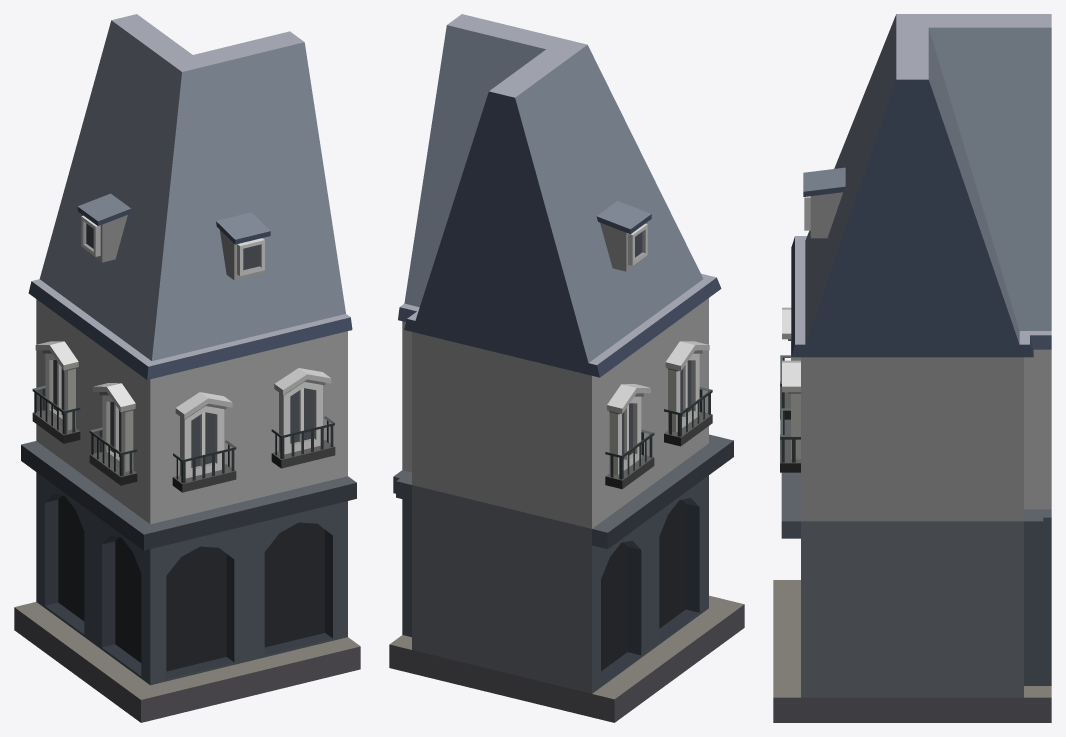
File: TB_CITY_BD_T_Corner_2_A.FBX
3 renders of one model, left to right at view 1: azimuth 30°, elevation 25°; view 2: azimuth 150°, elevation 25°; view 3: azimuth 270°, elevation 25°, orthographic. The views are drawn at different scales.
Visible parts, largest first — view 1: TB_CITY_BD_T_Corner_2_A; view 2: TB_CITY_BD_T_Corner_2_A; view 3: TB_CITY_BD_T_Corner_2_A.
Boxes of the visible parts, left/top/right/bottom form: TB_CITY_BD_T_Corner_2_A: left=14, top=14, right=360, bottom=722; TB_CITY_BD_T_Corner_2_A: left=389, top=14, right=744, bottom=722; TB_CITY_BD_T_Corner_2_A: left=773, top=14, right=1051, bottom=722.
Size of the model in its own units: 7.99 by 20.37 by 7.99.
